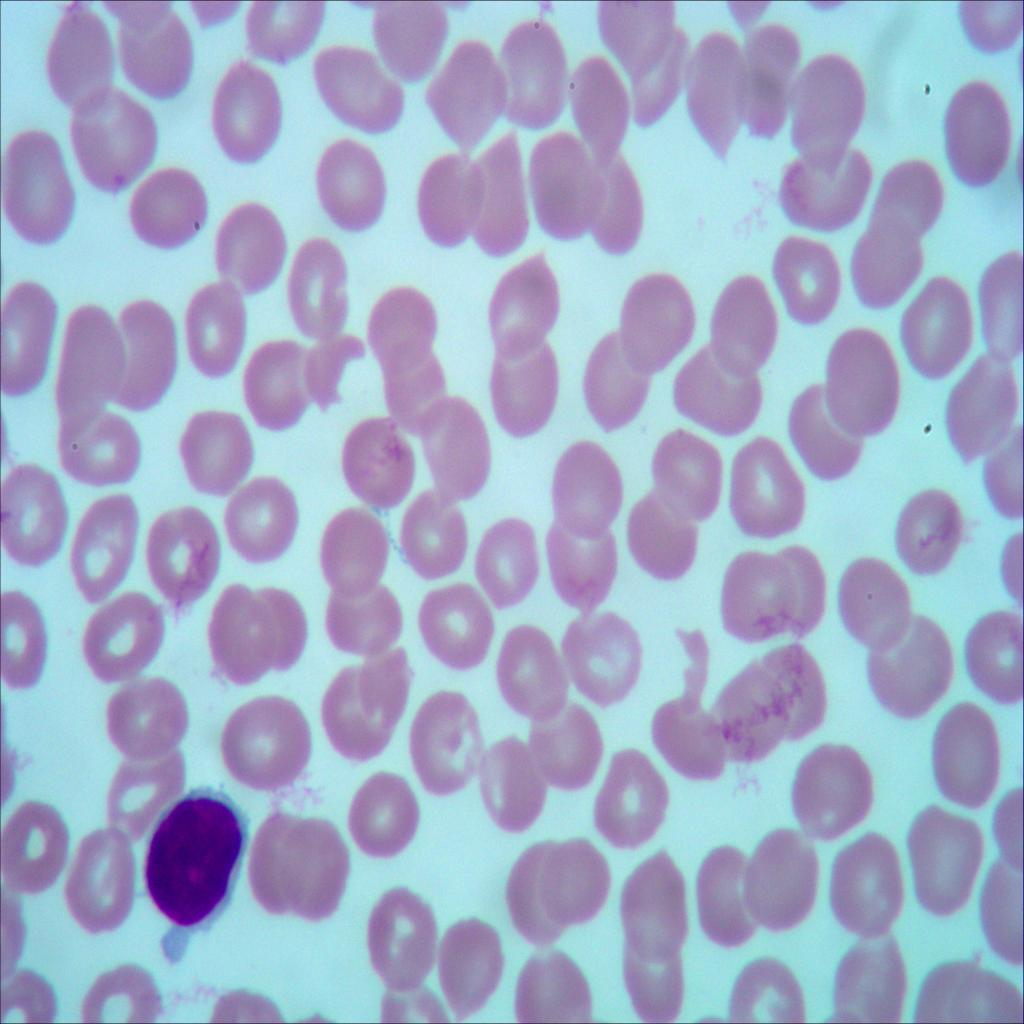Limfoblast: (136, 764, 246, 948)
